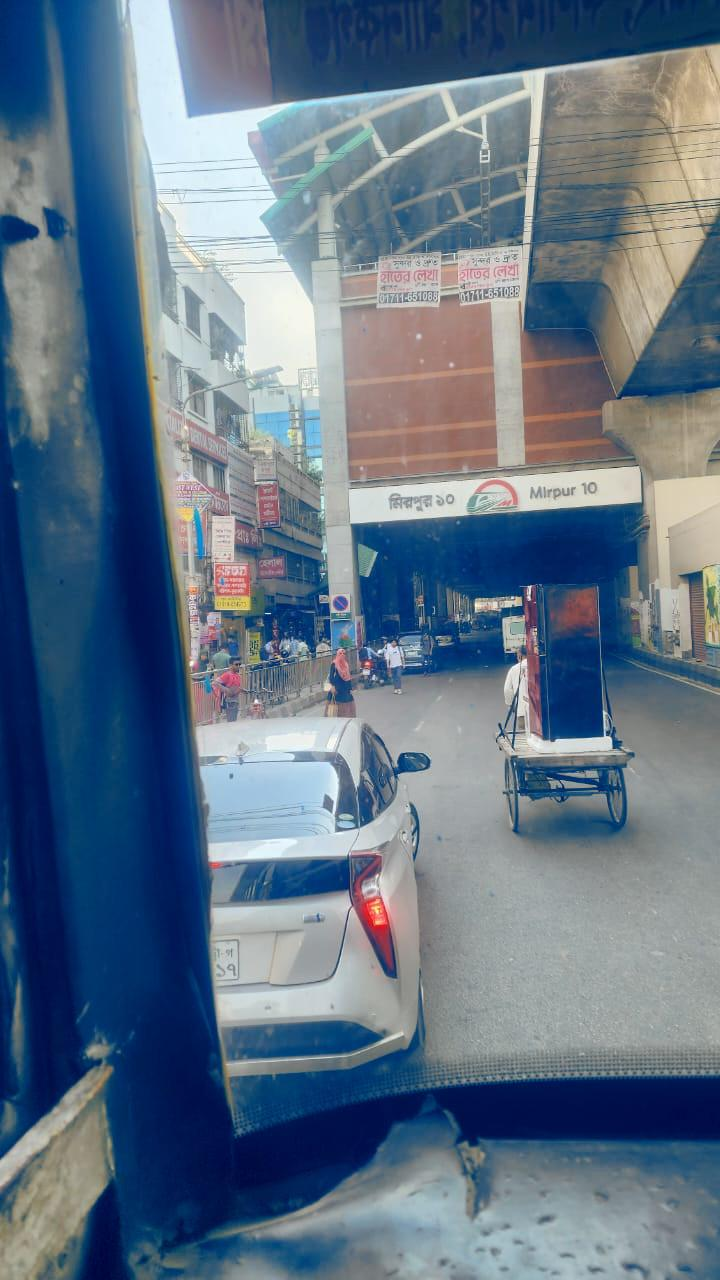No Parking: (331, 594, 351, 614)
